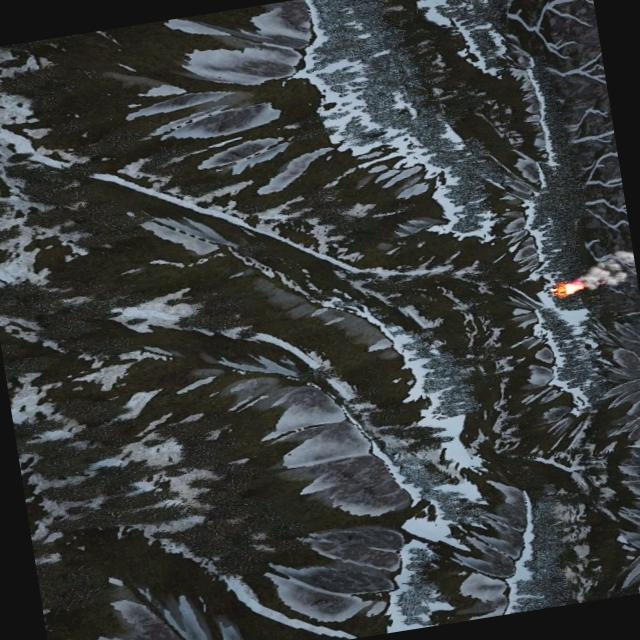fire: (555, 280, 582, 296)
smoke: (577, 250, 638, 292)
